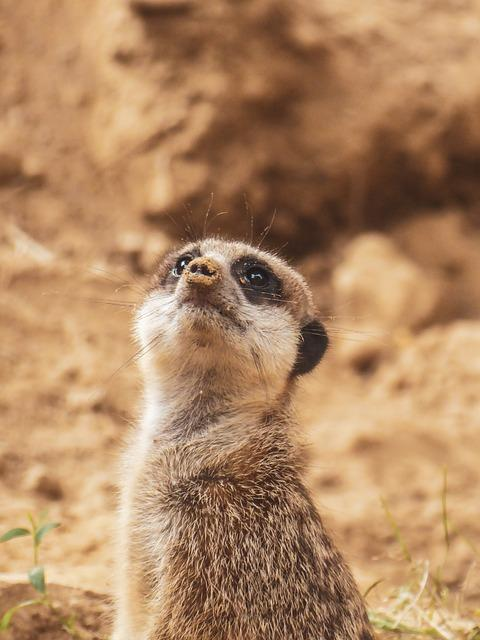Non_Gorille: (72, 162, 403, 633)
